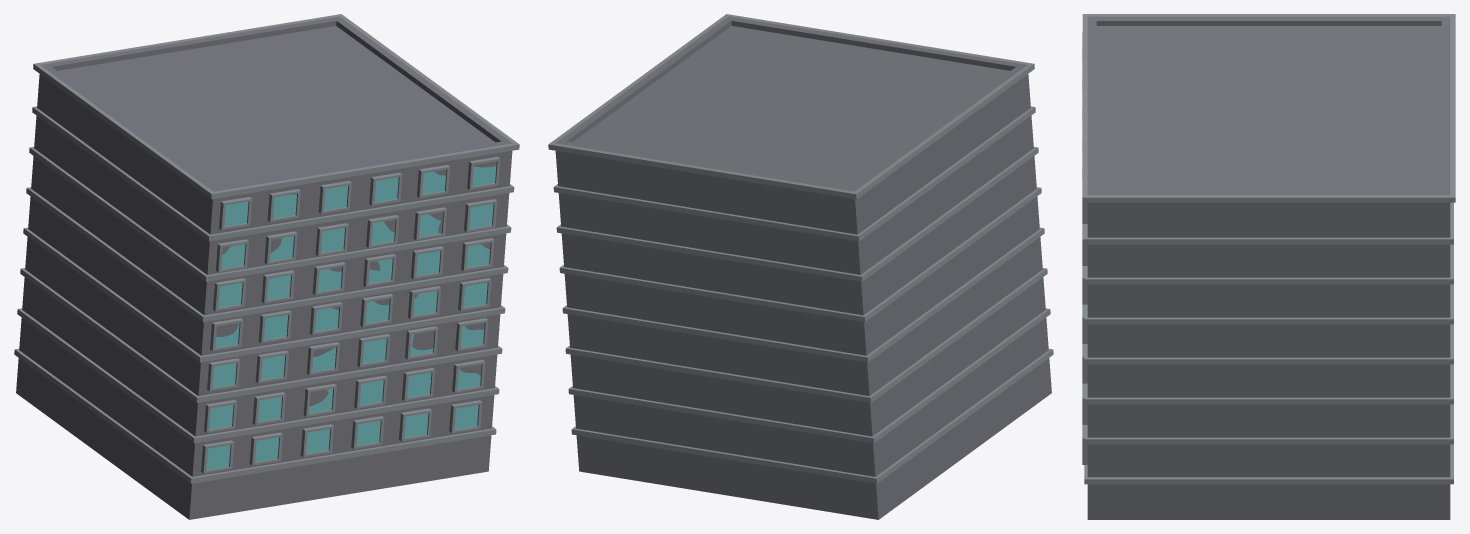
The model's file is Flat3_Kapot.fbx.
3 renders of one model, left to right at view 1: azimuth 30°, elevation 25°; view 2: azimuth 150°, elevation 25°; view 3: azimuth 270°, elevation 25°, orthographic. The views are drawn at different scales.
Parts seen in each view (by area): view 1: Flat3_Kapot; view 2: Flat3_Kapot; view 3: Flat3_Kapot.
Part boxes in pixels (x1,y1,x2,y2): Flat3_Kapot: (14, 14, 519, 519); Flat3_Kapot: (548, 14, 1053, 519); Flat3_Kapot: (1082, 14, 1455, 519).
Bounding box in the file's own units: 849 × 859 × 800.
